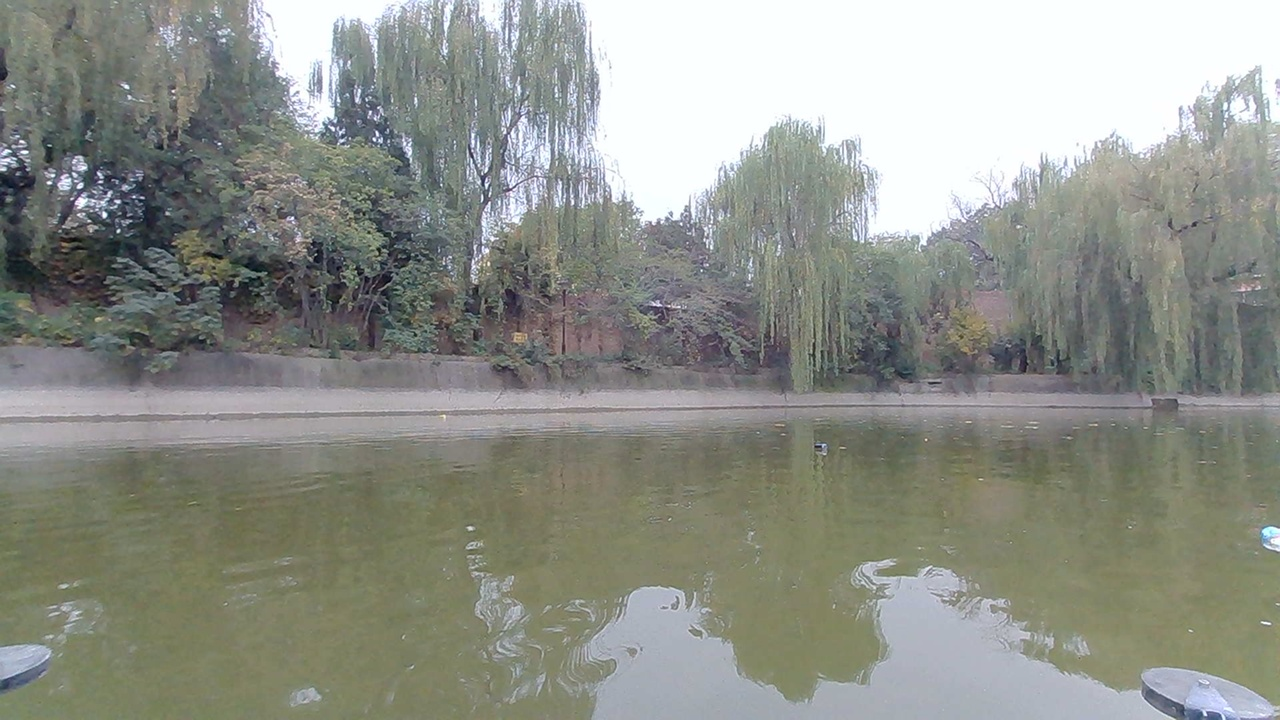bottle: (1251, 518, 1280, 561), (807, 430, 835, 456)
